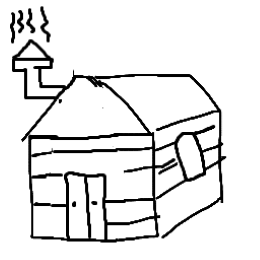door: (61, 167, 116, 247)
open_window: (170, 127, 211, 186)
roof: (15, 70, 237, 145)
smoking_chimney: (3, 3, 69, 104)
wall: (24, 129, 160, 247)
